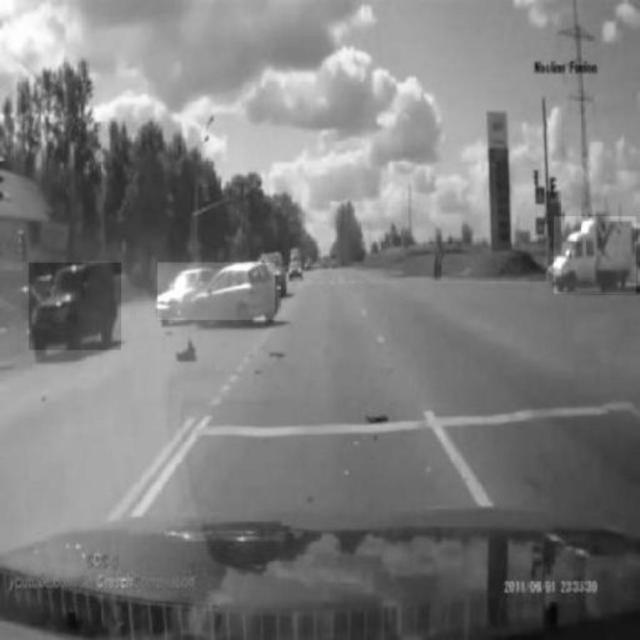accident: (157, 263, 275, 320)
vehicle: (28, 263, 120, 351), (554, 217, 636, 294)
